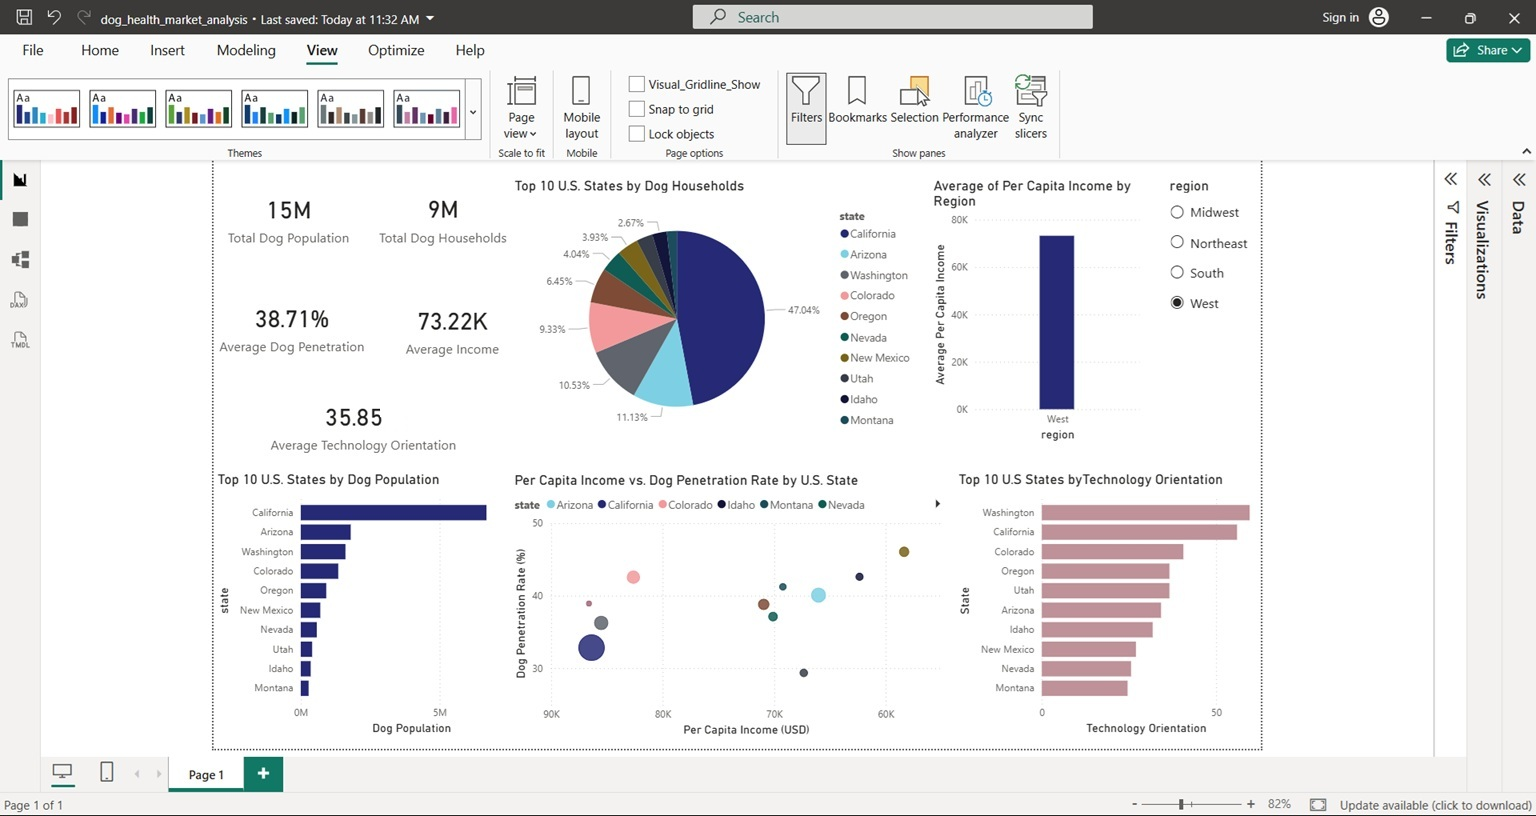

The dashboard page shown, as its layout file describes it:
{"tool":"powerbi","page":{"name":"Page 1","canvas":[1280,720],"ordinal":0},"visuals":[{"type":"card","fields":{"Values":["market market_kpis.Total Dog Households"]},"box":[183.4,0,194.4,139.4],"z":0},{"type":"actionButton","box":[0,0,100,40],"z":1000},{"type":"card","fields":{"Values":["market market_kpis.Total Dog Population"]},"box":[0,0,183.8,140],"z":2000},{"type":"card","fields":{"Values":["market market_kpis.Average Dog Penetration"]},"box":[0,128.4,192,149.2],"z":3000},{"type":"card","fields":{"Values":["market market_kpis.Average Income"]},"box":[192,130.8,200.5,150.4],"z":4000},{"type":"card","fields":{"Values":["market market_kpis.Average Technology Orientation"]},"box":[52.6,266.6,261.7,113.7],"z":5000},{"type":"clusteredBarChart","title":"Top 10 U.S. States by Dog Population","fields":{"Category":["market market_kpis.state"],"Y":["Sum(market market_kpis.dog_population)"]},"box":[0,380.1,392.5,328],"z":6000},{"type":"scatterChart","title":"Per Capita Income vs. Dog Penetration Rate by U.S. State","fields":{"X":["Sum(market market_kpis.per_capita_income)"],"Y":["Sum(market market_kpis.dog_penetration_rate)"],"Category":["market market_kpis.state"],"Size":["Sum(market market_kpis.dog_population)"],"Series":["market market_kpis.state"]},"box":[363.6,381.5,542,328],"z":7000},{"type":"listSlicer","fields":{"Values":["market market_kpis.region"]},"box":[1163.6,20.6,116.6,328],"z":8000},{"type":"clusteredBarChart","title":"Top 10 U.S States byTechnology Orientation","fields":{"Y":["Sum(market market_kpis.technology_orientation)"],"Category":["market market_kpis.state"]},"box":[905.7,380.1,374.6,328],"z":9000},{"type":"pieChart","title":"Top 10 U.S. States by Dog Households","fields":{"Y":["Sum(market market_kpis.dog_households)"],"Series":["market market_kpis.state"],"Category":["market market_kpis.state"]},"box":[363.6,20.6,502.2,328],"z":10000},{"type":"clusteredColumnChart","title":"Average of Per Capita Income by Region","fields":{"Category":["market market_kpis.region"],"Y":["Avg(market market_kpis.per_capita_income)"]},"box":[875.5,20.6,262.1,328],"z":11000}]}

Visuals, with their boxes on the page's 1280x720 design canvas (x1, y1, x2, y2). These are canvas units, not pixel positions in the 1536x816 screenshot, which may show the page scaled, cropped or inside an application window:
card - market market_kpis.Total Dog Households: (x1=183, y1=0, x2=378, y2=139)
actionButton: (x1=0, y1=0, x2=100, y2=40)
card - market market_kpis.Total Dog Population: (x1=0, y1=0, x2=184, y2=140)
card - market market_kpis.Average Dog Penetration: (x1=0, y1=128, x2=192, y2=278)
card - market market_kpis.Average Income: (x1=192, y1=131, x2=392, y2=281)
card - market market_kpis.Average Technology Orientation: (x1=53, y1=267, x2=314, y2=380)
"Top 10 U.S. States by Dog Population" clusteredBarChart: (x1=0, y1=380, x2=392, y2=708)
"Per Capita Income vs. Dog Penetration Rate by U.S. State" scatterChart: (x1=364, y1=382, x2=906, y2=710)
listSlicer - market market_kpis.region: (x1=1164, y1=21, x2=1280, y2=349)
"Top 10 U.S States byTechnology Orientation" clusteredBarChart: (x1=906, y1=380, x2=1280, y2=708)
"Top 10 U.S. States by Dog Households" pieChart: (x1=364, y1=21, x2=866, y2=349)
"Average of Per Capita Income by Region" clusteredColumnChart: (x1=876, y1=21, x2=1138, y2=349)
